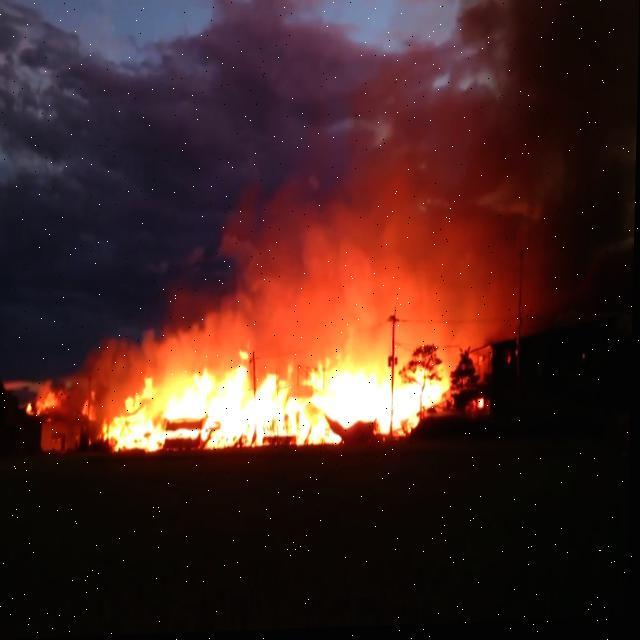Fire: (100, 339, 456, 457), (26, 381, 64, 420), (80, 386, 100, 421), (479, 398, 486, 413)
